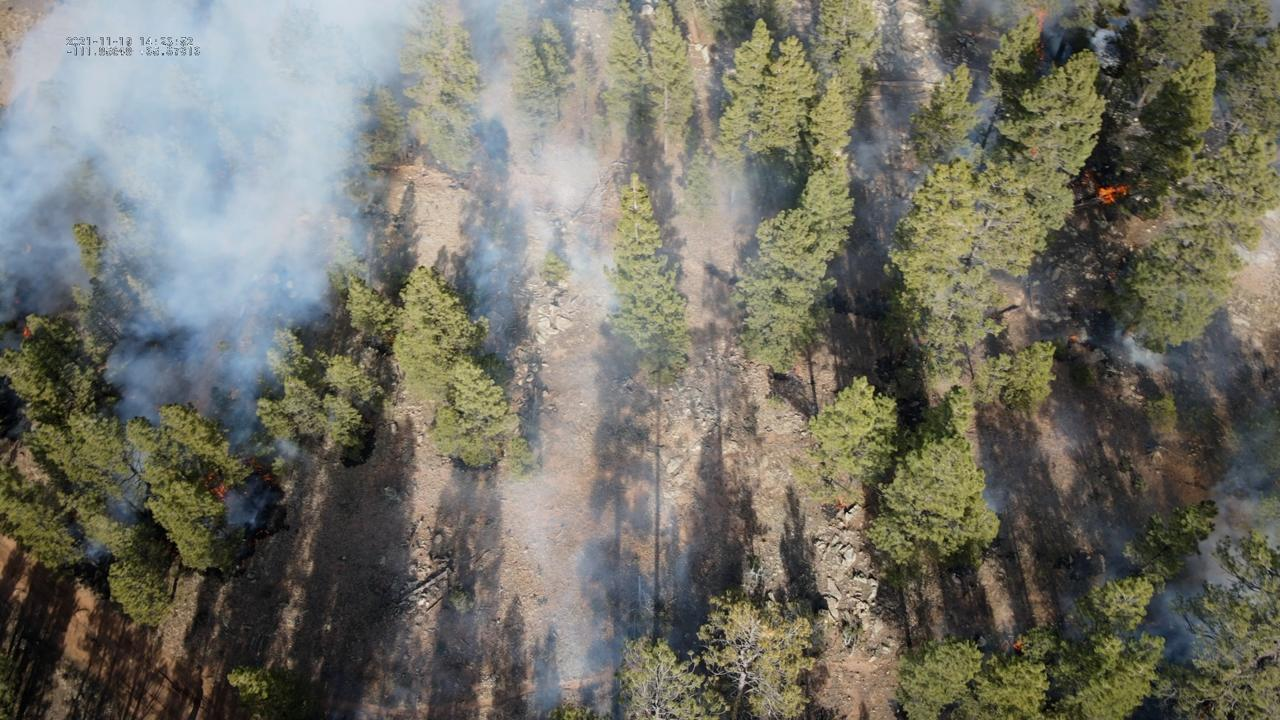fire: (1029, 4, 1048, 64), (1094, 182, 1131, 206), (201, 472, 228, 499), (20, 326, 33, 340), (1010, 637, 1025, 649), (263, 472, 274, 483), (1068, 333, 1080, 341)
smoke: (0, 0, 799, 720), (1159, 442, 1279, 665), (848, 81, 1000, 221), (956, 0, 1150, 68), (971, 456, 1009, 517), (1121, 332, 1169, 375), (1243, 0, 1280, 50)
